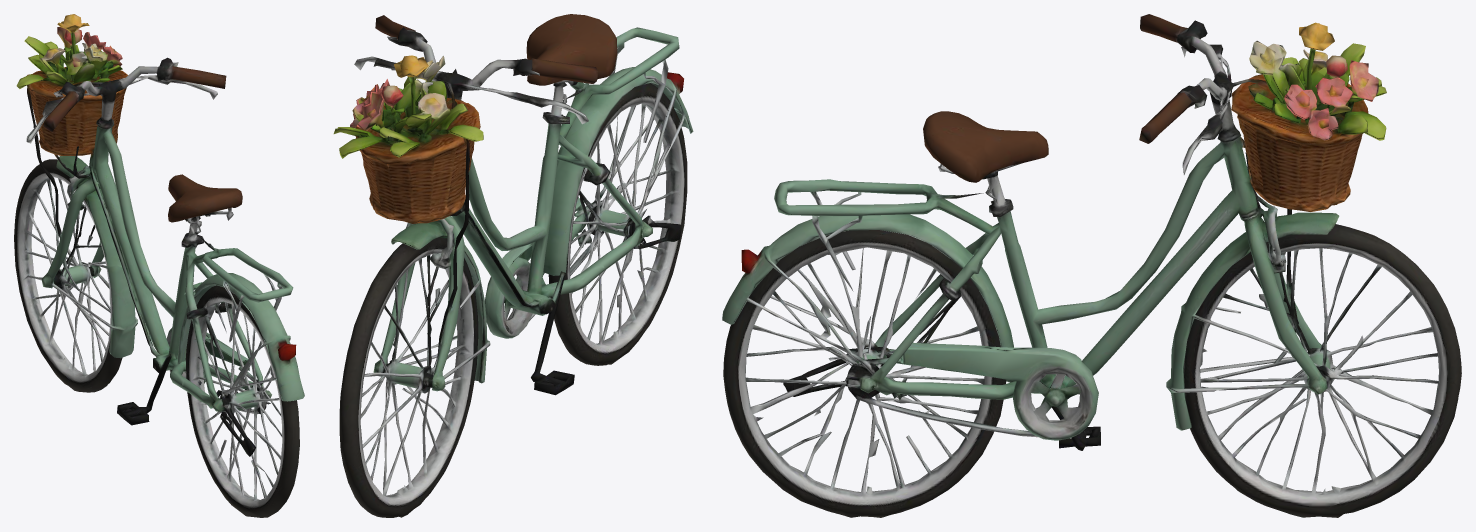
The model's file is cafe_bike.glb.
3 views of the same model, side by side, from view 1: azimuth 30°, elevation 25°; view 2: azimuth 150°, elevation 25°; view 3: azimuth 270°, elevation 25° (orthographic). The views are drawn at different scales.
Visible parts, largest first — view 1: tripo_node_77566ff5-fd10-460b-9076-0a1bcbe67534; view 2: tripo_node_77566ff5-fd10-460b-9076-0a1bcbe67534; view 3: tripo_node_77566ff5-fd10-460b-9076-0a1bcbe67534.
Boxes of the visible parts, left/top/right/bottom form: tripo_node_77566ff5-fd10-460b-9076-0a1bcbe67534: left=14, top=14, right=304, bottom=517; tripo_node_77566ff5-fd10-460b-9076-0a1bcbe67534: left=333, top=14, right=693, bottom=517; tripo_node_77566ff5-fd10-460b-9076-0a1bcbe67534: left=722, top=14, right=1461, bottom=517.
Size of the model in its own units: 0.3968 by 0.7354 by 1.
Materials: 1 (1 with a texture image).
